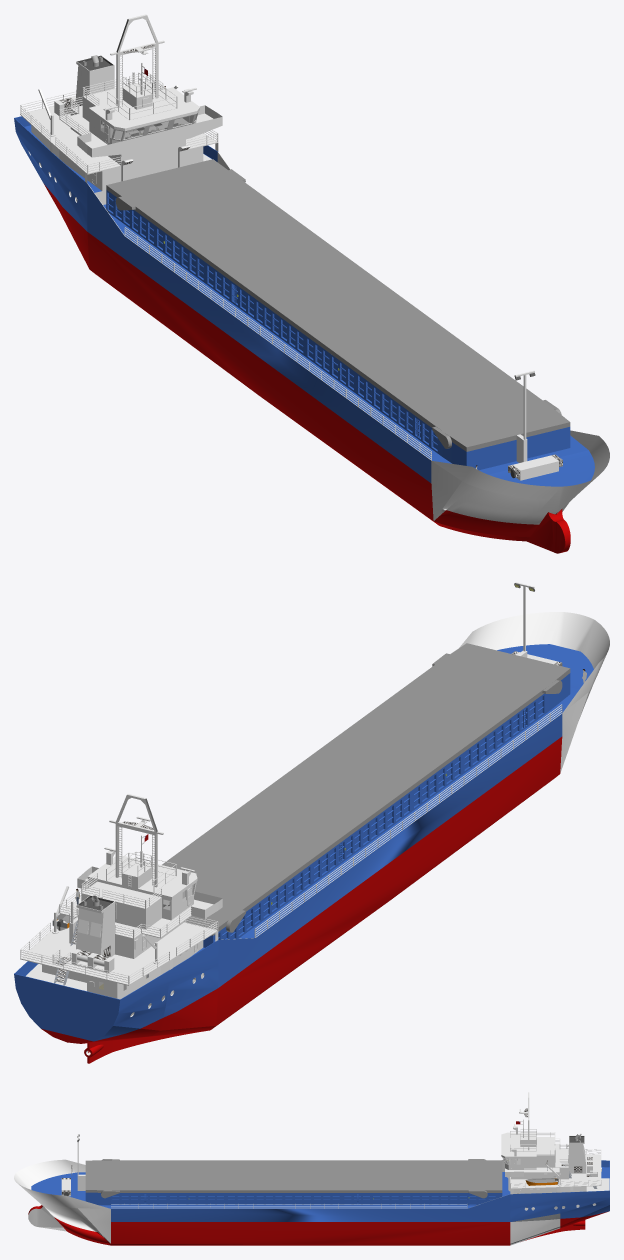
Rendered from cruise_blue_red.glb.
3 views of the same model, one above another, from view 1: azimuth 30°, elevation 25°; view 2: azimuth 150°, elevation 25°; view 3: azimuth 270°, elevation 25° (orthographic). The views are drawn at different scales.
Visible parts, largest first — view 1: Object_51, Object_36, Object_25, Object_48, Object_27, Object_41, Object_39, Object_40, Object_42, Object_43; view 2: Object_51, Object_36, Object_25, Object_48, Object_27, Object_41, Object_39, Object_40, Object_42, Object_43; view 3: Object_36, Object_51, Object_25, Object_48, Object_27, Object_39, Object_41, Object_40, Object_43, Object_42, Object_38.
Part boxes in pixels (x1,y1,x2,y2): Object_51: (106, 159, 570, 451); Object_36: (14, 116, 594, 486); Object_25: (44, 69, 570, 553); Object_48: (20, 47, 598, 520); Object_27: (28, 42, 609, 524); Object_41: (20, 55, 162, 173); Object_39: (59, 47, 407, 442); Object_40: (66, 55, 431, 460); Object_42: (79, 14, 534, 439); Object_43: (38, 85, 558, 480); Object_51: (53, 643, 570, 935); Object_36: (14, 644, 593, 1041); Object_25: (41, 736, 562, 1063); Object_48: (20, 632, 598, 1055); Object_27: (118, 612, 609, 1016); Object_41: (20, 889, 216, 984); Object_39: (82, 722, 537, 937); Object_40: (20, 704, 562, 957); Object_42: (109, 582, 534, 950); Object_43: (52, 652, 557, 972); Object_36: (31, 1160, 609, 1221); Object_51: (85, 1159, 556, 1198); Object_25: (28, 1205, 608, 1245); Object_48: (41, 1109, 609, 1243); Object_27: (14, 1112, 596, 1242); Object_39: (125, 1121, 560, 1208); Object_41: (517, 1135, 601, 1185); Object_40: (111, 1138, 601, 1208); Object_43: (61, 1133, 596, 1196); Object_42: (77, 1092, 557, 1191); Object_38: (510, 1213, 560, 1245).
Size of the model in its own units: 535 by 904 by 3634.
51 materials, 15 textured.
